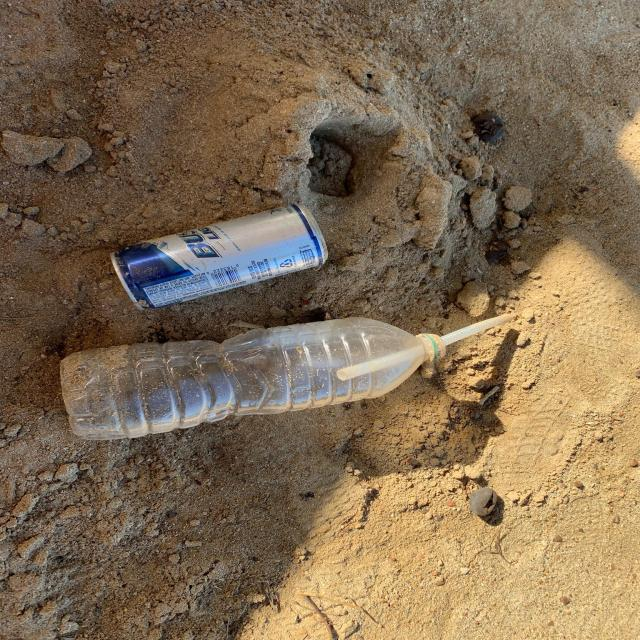litter: (60, 312, 516, 439), (107, 202, 329, 313)
